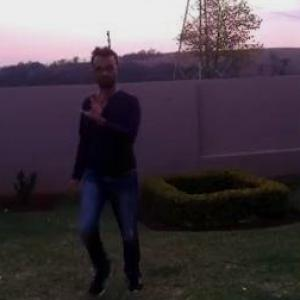follow_hand: (77, 83, 113, 124)
